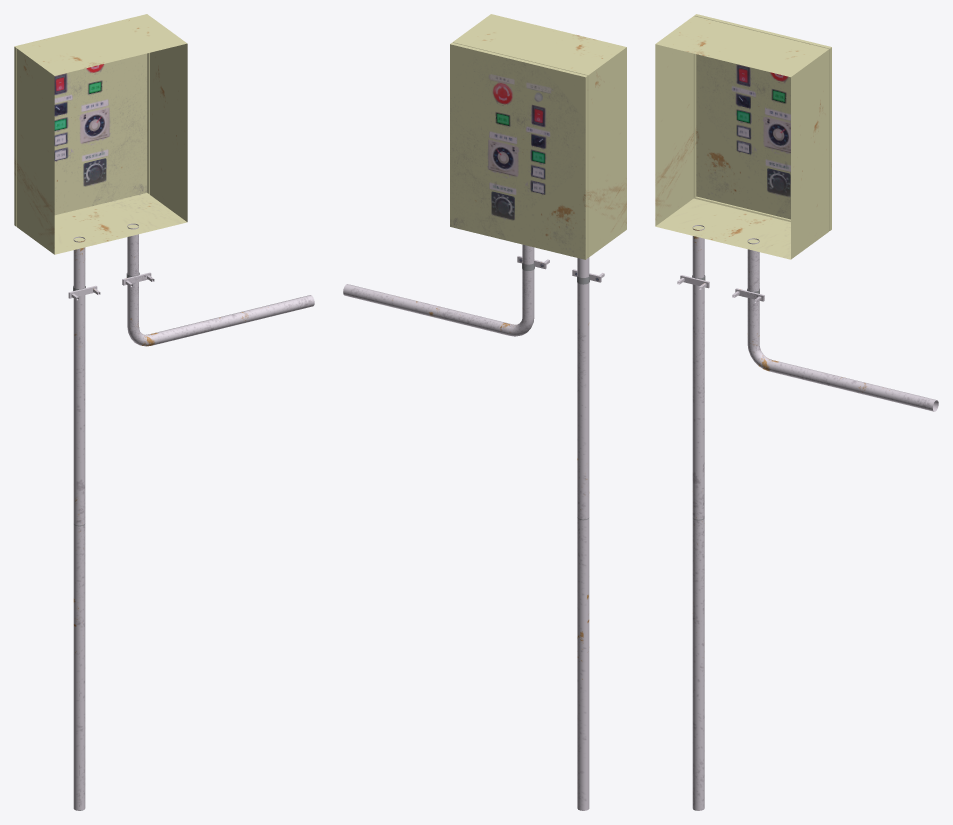
File: controllpanel2.fbx
3 renders of one model, left to right at view 1: azimuth 30°, elevation 25°; view 2: azimuth 150°, elevation 25°; view 3: azimuth 330°, elevation 25°, orthographic. The views are drawn at different scales.
Parts seen in each view (by area): view 1: controllpanel2; view 2: controllpanel2; view 3: controllpanel2.
Part boxes in pixels (x1=…): controllpanel2: x1=14, y1=14, x2=314, y2=810; controllpanel2: x1=343, y1=14, x2=626, y2=810; controllpanel2: x1=655, y1=14, x2=938, y2=810.
Size of the model in its own units: 68.01 by 182 by 17.99.
